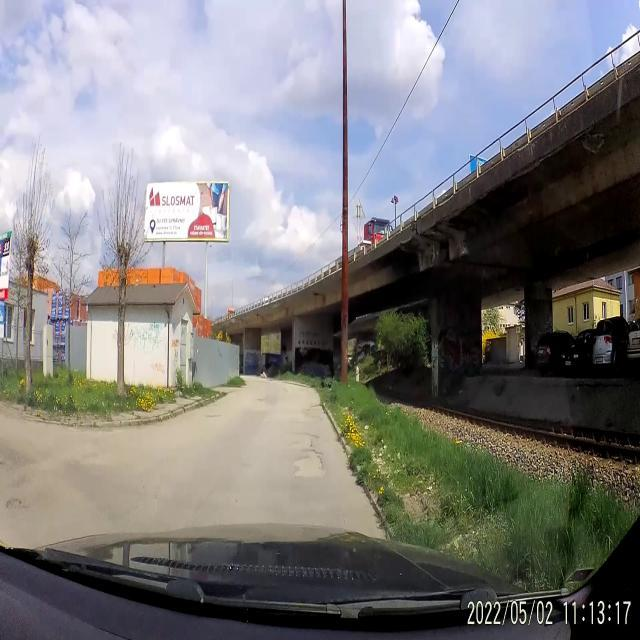Pothole: (292, 430, 324, 486)
